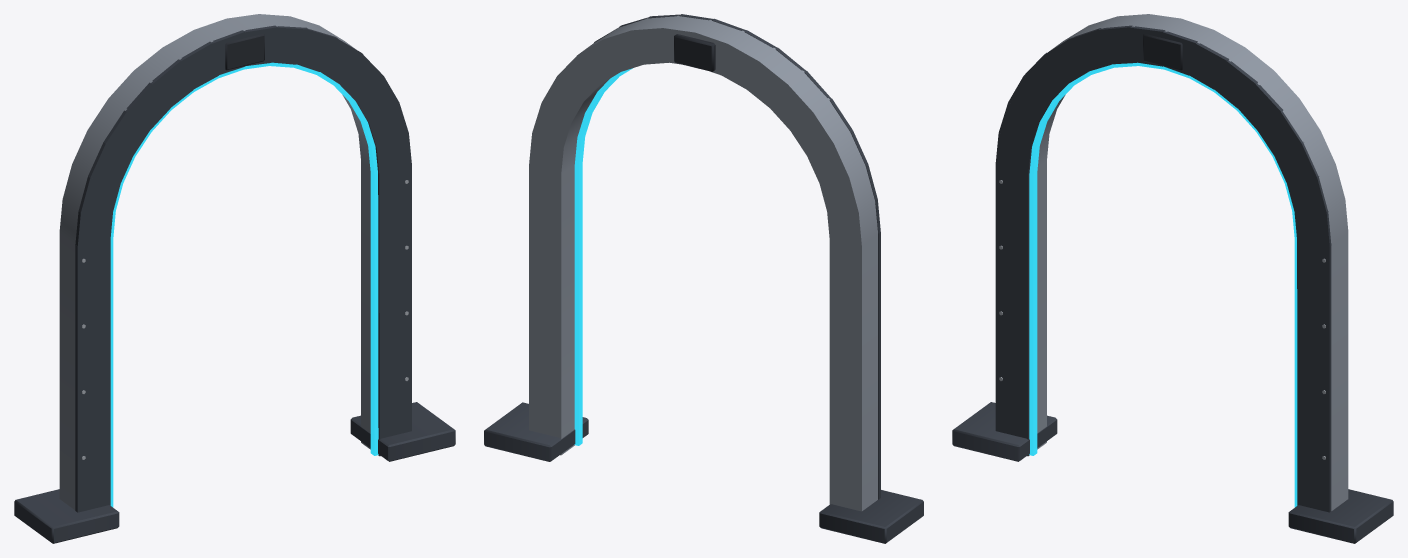
File: doorframe_round_arch.glb
3 renders of one model, left to right at view 1: azimuth 30°, elevation 25°; view 2: azimuth 150°, elevation 25°; view 3: azimuth 330°, elevation 25°, orthographic.
Parts seen in each view (by area): view 1: doorframe_round_arch; view 2: doorframe_round_arch; view 3: doorframe_round_arch.
Part boxes in pixels (x1,y1,x2,y2): doorframe_round_arch: (14, 14, 455, 543); doorframe_round_arch: (484, 14, 923, 543); doorframe_round_arch: (952, 14, 1393, 543).
Size of the model in its own units: 3 by 3.25 by 0.5.
